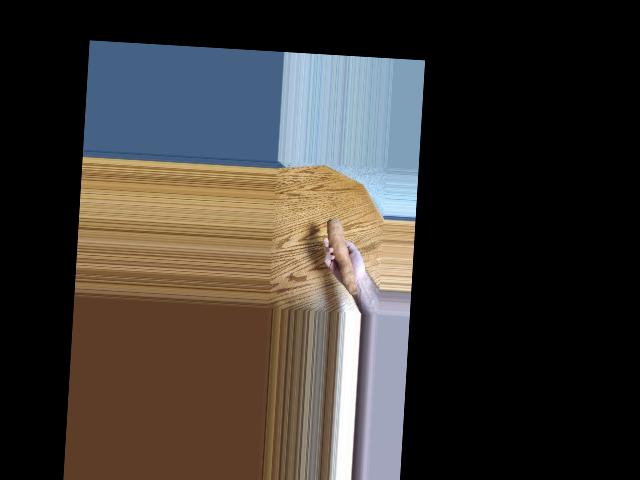sweet_potato: (321, 217, 362, 293)
